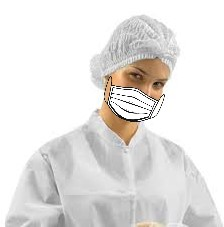with_mask_and_cap: (104, 17, 171, 123)
